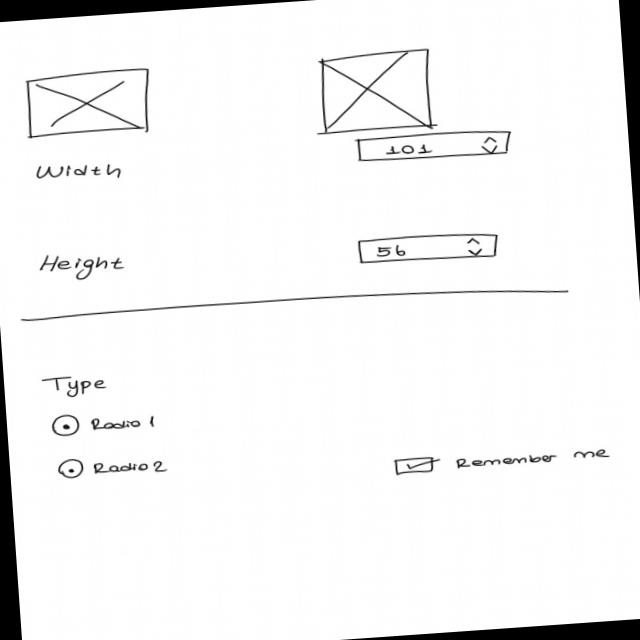checkbox: (391, 442, 614, 476)
image: (315, 47, 436, 136), (22, 66, 154, 140)
label: (34, 248, 128, 283), (33, 157, 124, 185), (40, 372, 110, 400)
number-input: (354, 126, 514, 165), (356, 229, 500, 268)
radio: (56, 451, 170, 481), (50, 407, 156, 439)
